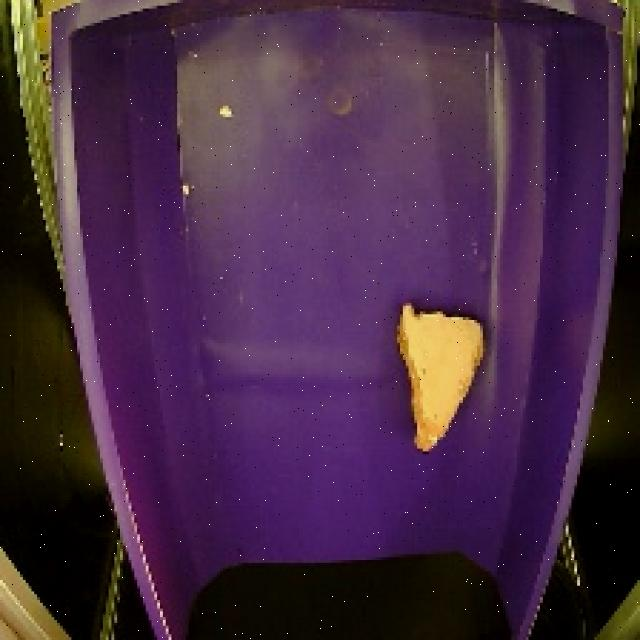brick: (382, 290, 496, 458)
